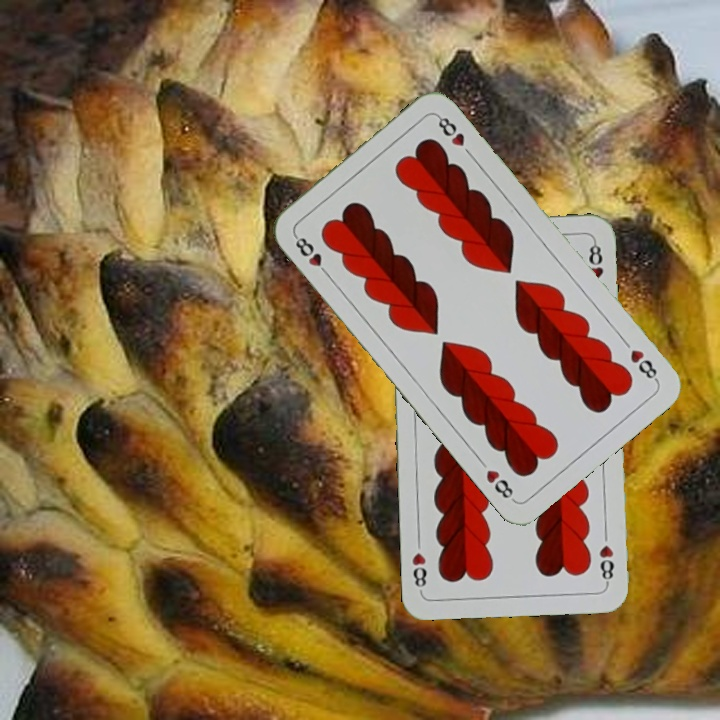H8: (290, 230, 333, 280), (626, 345, 661, 384), (595, 541, 616, 587)
